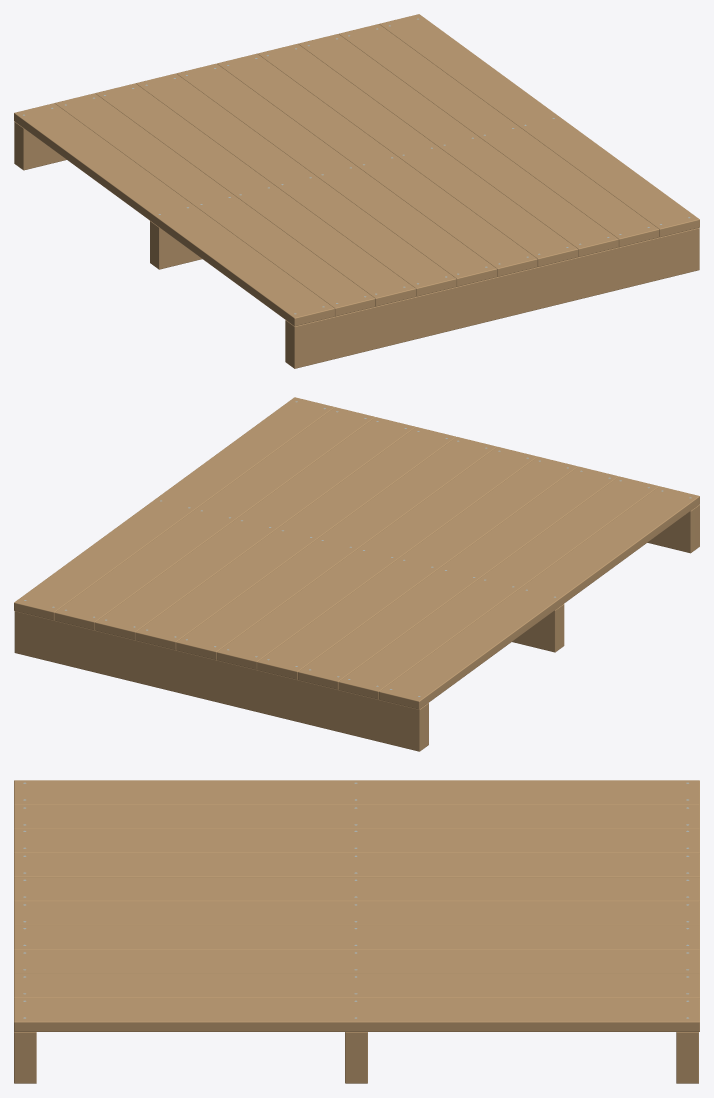
The model's file is pallet_block_a03.glb.
3 views of the same model, one above another, from view 1: azimuth 30°, elevation 25°; view 2: azimuth 150°, elevation 25°; view 3: azimuth 270°, elevation 25° (orthographic). The views are drawn at different scales.
Bounding box in the file's own units: 1 × 0.1199 × 1.2.
